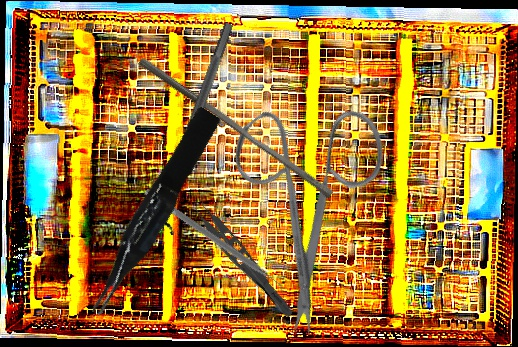Fixation Ring: (142, 18, 246, 236)
Iris Scissors: (175, 62, 455, 345)
Pusher: (132, 57, 339, 199)
Spatula Surgical: (139, 188, 290, 297)
Tissue Forceps: (73, 105, 231, 320), (185, 192, 304, 321)
